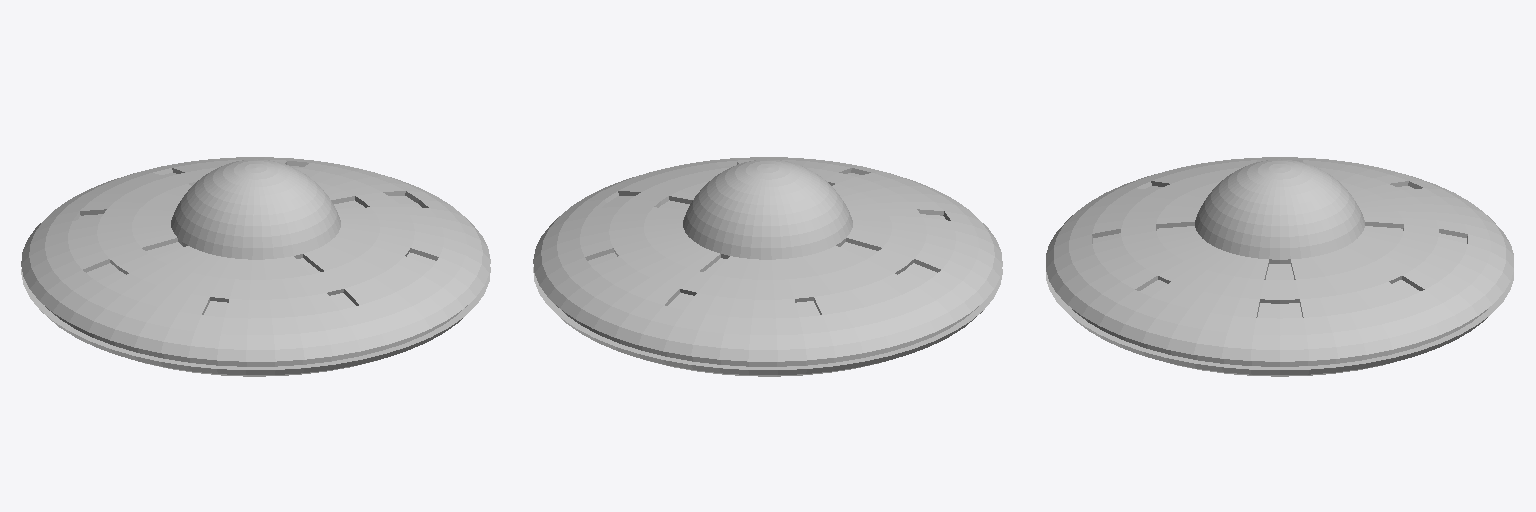
The model's file is ownUfo.obj.
The picture shows the model from 3 angles: view 1: azimuth 30°, elevation 25°; view 2: azimuth 150°, elevation 25°; view 3: azimuth 270°, elevation 25°; orthographic projection.
Parts seen in each view (by area): view 1: pSphere4; view 2: pSphere4; view 3: pSphere4.
Part boxes in pixels (x1,y1,x2,y2): pSphere4: (21,157,490,376); pSphere4: (533,157,1002,376); pSphere4: (1046,157,1513,376).
Size of the model in its own units: 2.88 by 1.2 by 2.88.